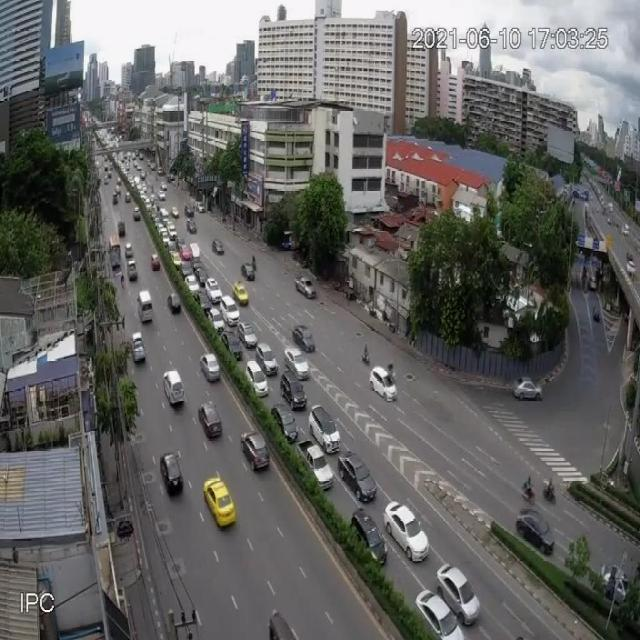Bus: (108, 236, 122, 270)
Car: (382, 501, 431, 564), (435, 564, 481, 627), (415, 590, 464, 639), (349, 508, 388, 566), (337, 451, 378, 504), (295, 438, 335, 491), (514, 508, 556, 556), (202, 475, 236, 531), (308, 403, 340, 453), (238, 429, 274, 472), (281, 370, 309, 412), (270, 404, 300, 443), (159, 453, 184, 498), (160, 370, 188, 410), (243, 362, 273, 399), (369, 365, 398, 402), (510, 376, 548, 404), (282, 348, 312, 381), (198, 401, 223, 439), (291, 324, 320, 354), (254, 342, 278, 378), (198, 353, 223, 385), (220, 333, 244, 361), (291, 276, 317, 301), (129, 331, 147, 364), (237, 321, 257, 348), (204, 278, 224, 304), (207, 307, 225, 334), (231, 280, 249, 304), (166, 293, 182, 315), (126, 260, 140, 282), (184, 275, 200, 294), (240, 263, 256, 281), (196, 293, 210, 313), (211, 238, 226, 256), (195, 267, 209, 284), (149, 254, 162, 271), (180, 261, 192, 279), (167, 223, 179, 241), (155, 219, 165, 238), (171, 250, 181, 268), (161, 228, 171, 246), (184, 202, 195, 217), (116, 222, 128, 235), (124, 243, 134, 258), (133, 206, 142, 221), (171, 206, 181, 218), (112, 193, 120, 206), (196, 202, 206, 212), (158, 189, 166, 201), (124, 192, 132, 203), (139, 170, 147, 180), (116, 185, 122, 198), (103, 176, 109, 187), (116, 175, 122, 186), (158, 166, 164, 176), (143, 182, 148, 194), (137, 183, 142, 194), (106, 171, 113, 178), (134, 160, 140, 168), (150, 163, 156, 170), (128, 177, 133, 184), (137, 166, 142, 170)
Cycle: (540, 478, 560, 506), (520, 476, 538, 504), (361, 343, 372, 365), (387, 361, 398, 383)
Truck: (189, 243, 201, 263)
Van: (220, 296, 241, 326), (136, 290, 154, 324), (185, 217, 198, 235), (160, 207, 170, 221), (145, 198, 152, 210)
